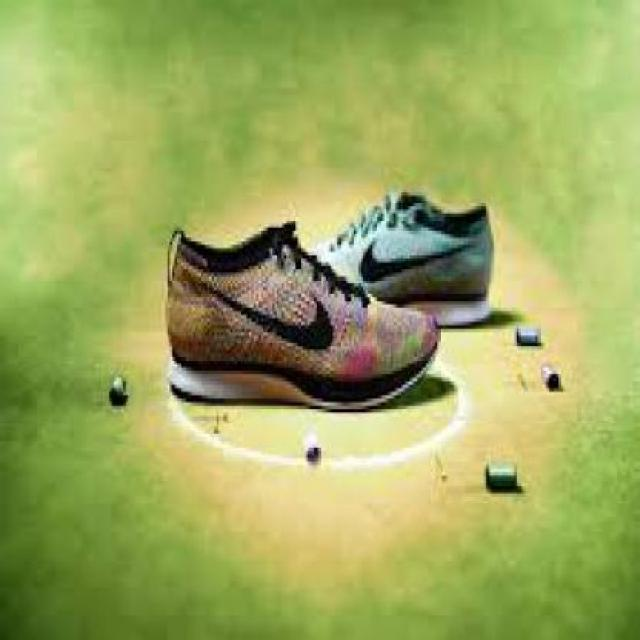Nike: (189, 268, 338, 350), (354, 231, 476, 280)
